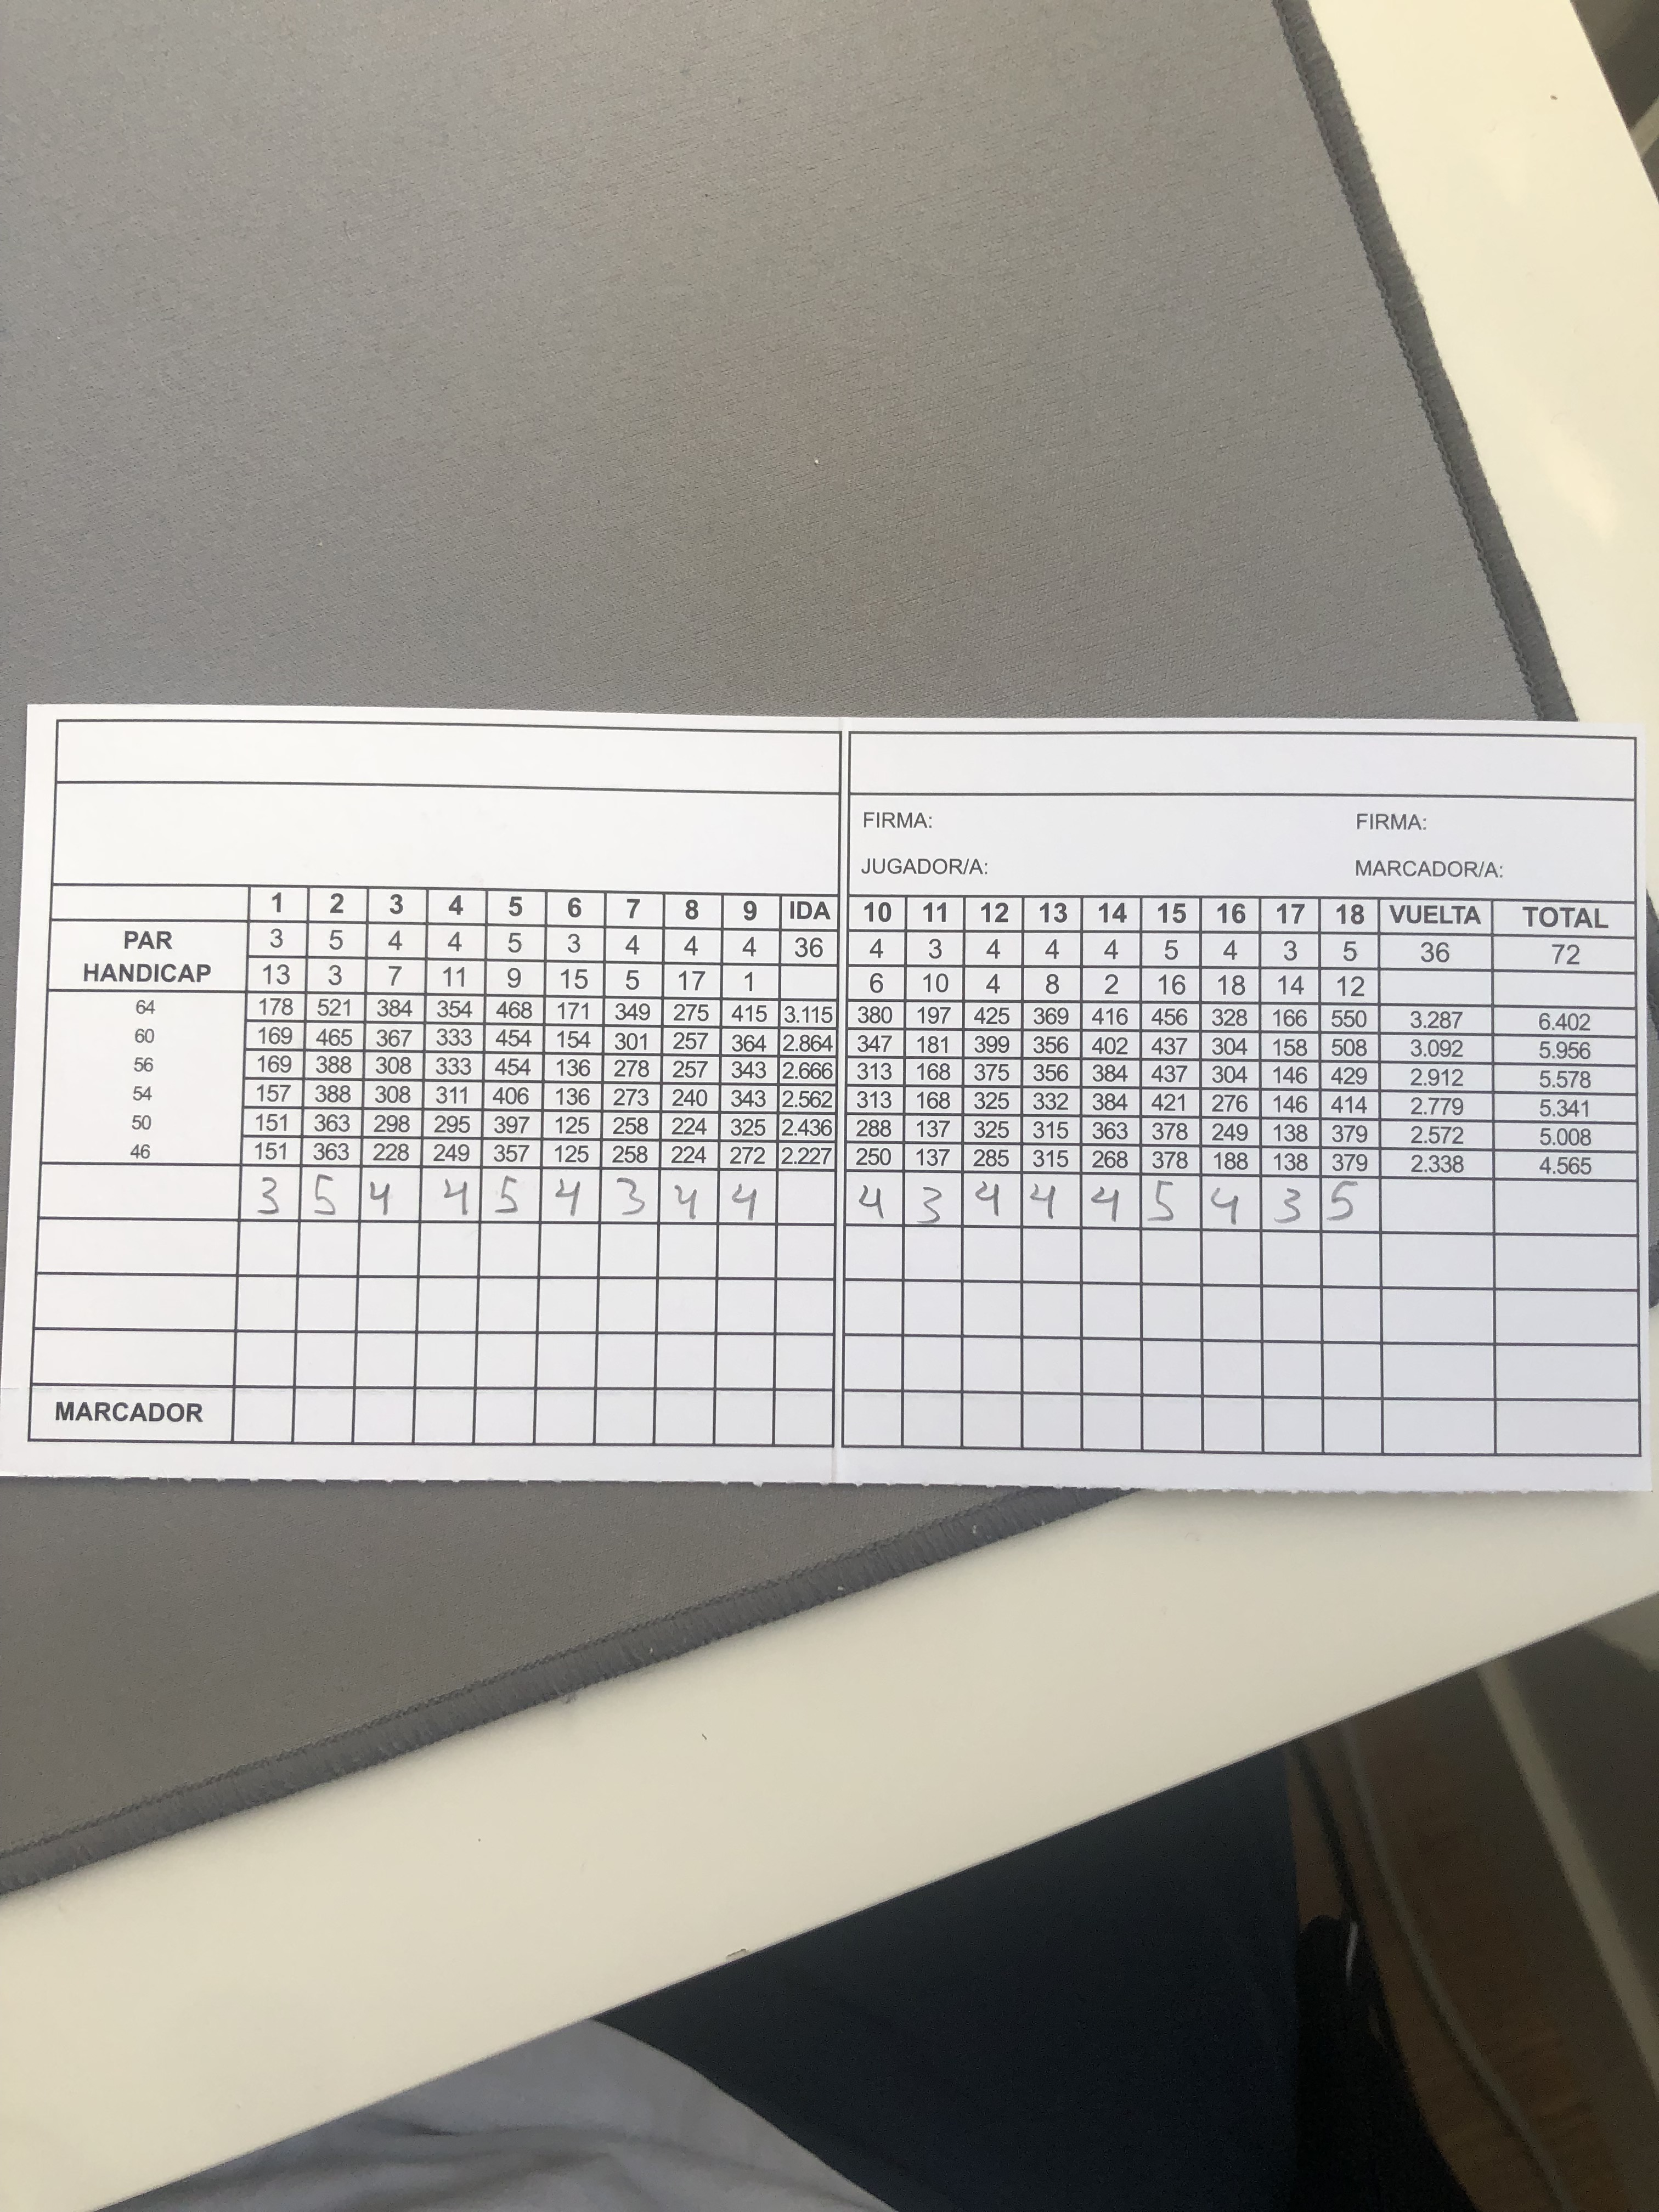par: (105, 927, 1607, 970)
score: (240, 1176, 1380, 1231)
